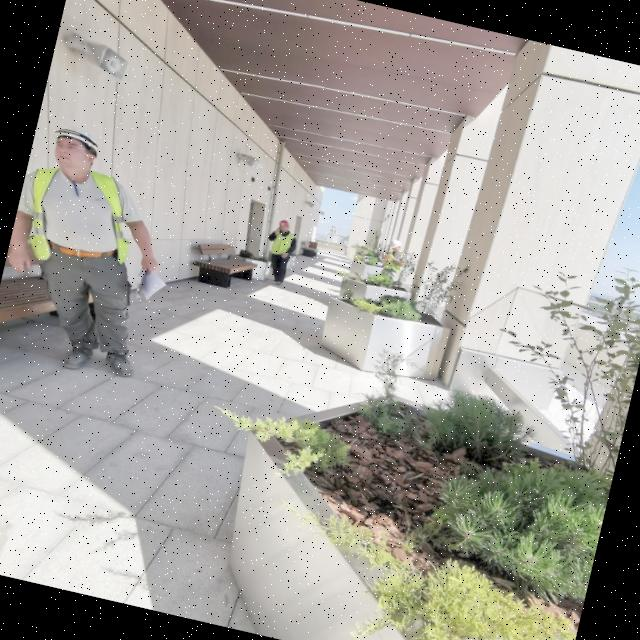Helmet: (51, 122, 104, 154), (387, 239, 405, 253), (277, 220, 292, 232)
Jacket: (16, 160, 132, 279), (270, 229, 296, 260), (383, 249, 407, 275)
